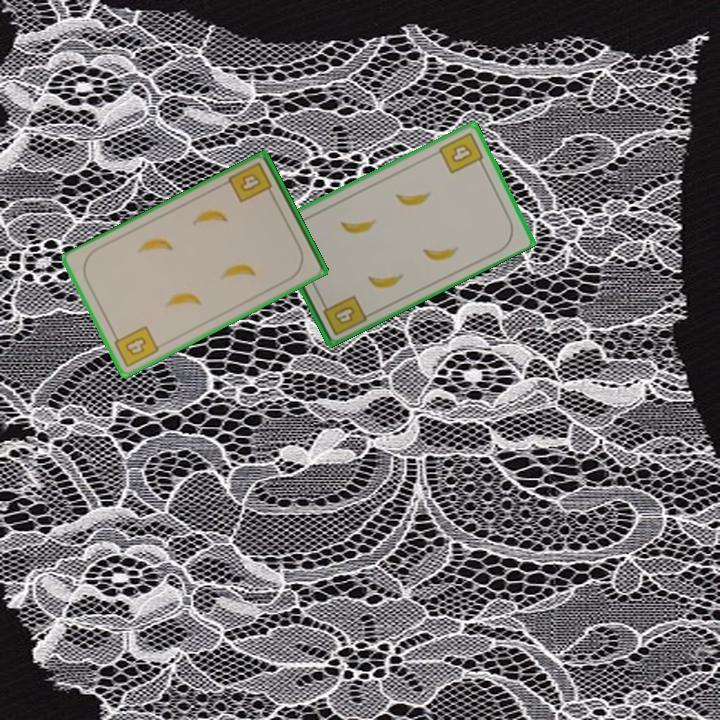4b: (109, 322, 162, 371), (435, 128, 488, 176), (225, 159, 277, 206), (318, 291, 369, 338)
